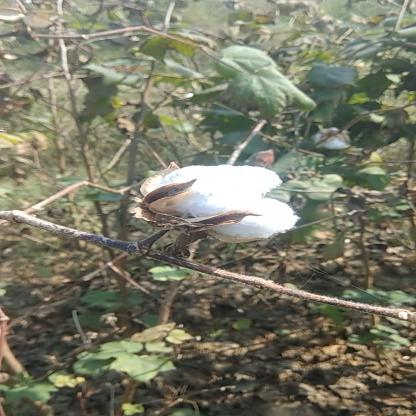cotton_ready: (105, 146, 303, 281)
